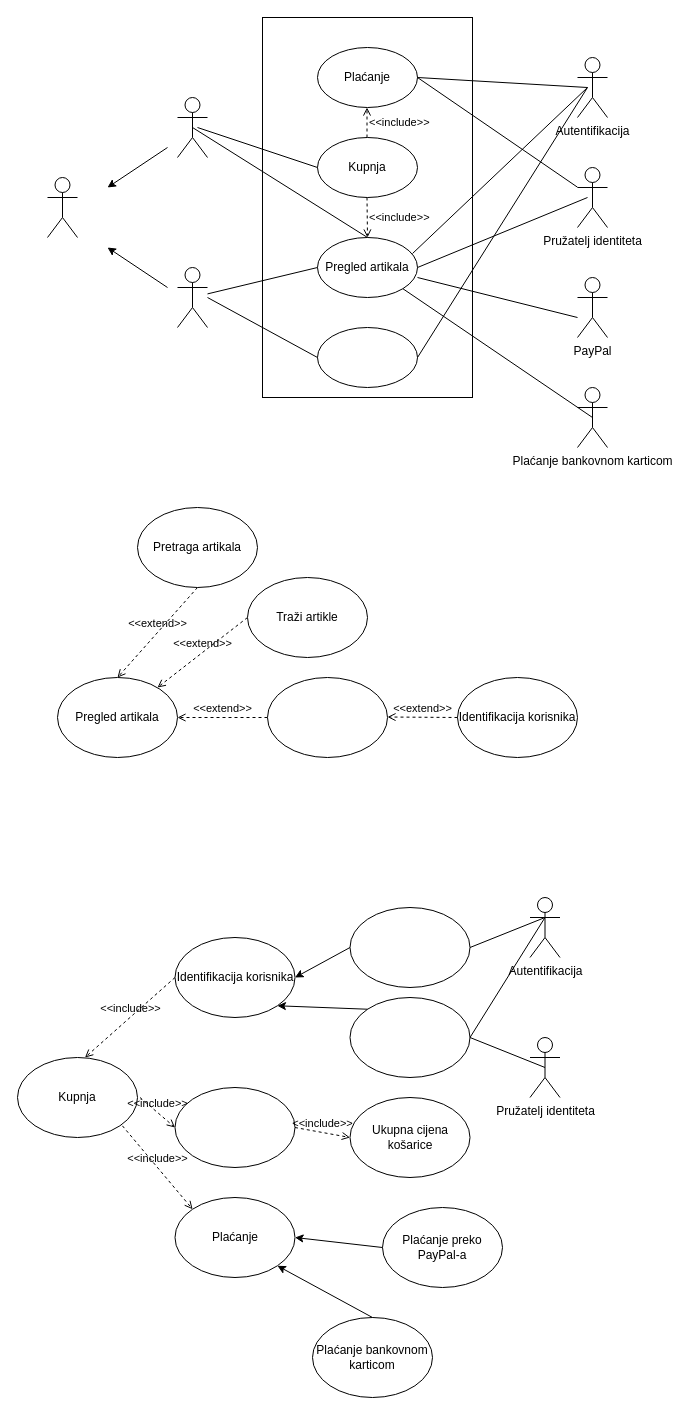
The diagram is 690 pixels wide and 1415 high, and some of its shapes have lost their labels. Each missing label, with the centre of its shape:
Bez prijave: pixel 409 1037
Dodaj u košaricu: pixel 327 717
Korisnik: pixel 62 207
Novi korisnik: pixel 192 297
Pregled/ažuriranje košarice: pixel 234 1127
Prijava korisnika: pixel 409 947
Registracija novih korisnika: pixel 367 357
Registrirani korisnik: pixel 192 127
